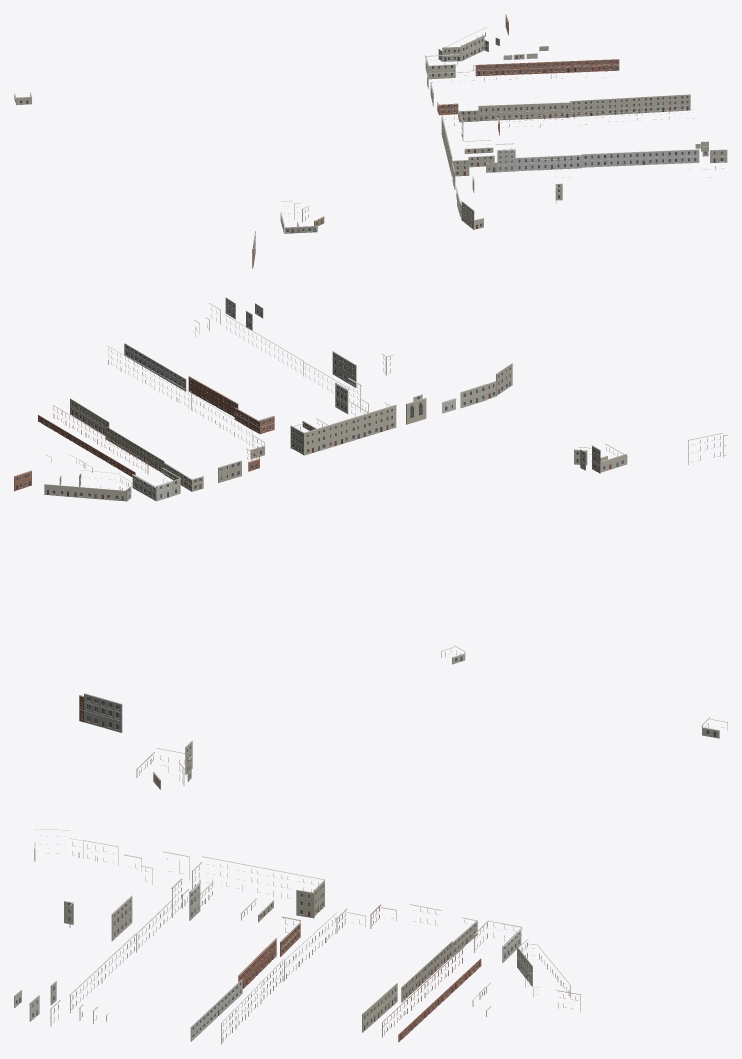
The picture shows the model from 3 angles, top to bottom: view 1: azimuth 30°, elevation 25°; view 2: azimuth 150°, elevation 25°; view 3: azimuth 270°, elevation 25°; orthographic projection. The views are drawn at different scales.
Visible parts, largest first — view 1: f:way/172397103, f:way/145168161, f:way/145162487, f:way/171463872, f:way/171465021, f:way/145168174; view 2: f:way/171463872, f:way/171465021, f:way/145162487, f:way/145162483, f:way/145162481, f:way/145162482, f:way/172397103, f:way/145168171, f:way/145162501, f:way/171463869, f:way/299736826; view 3: f:way/171463872, f:way/161131041, f:way/145162487, f:way/172397103, f:way/145162481, f:way/145168171, f:way/145162483, f:way/145168161, f:way/145162482, f:way/145162501, f:way/171465021.
Part boxes in pixels (x1,y1,x2,y2): f:way/172397103: (478,94,690,121); f:way/145168161: (515,149,699,171); f:way/145162487: (473,59,619,76); f:way/171463872: (441,114,494,176); f:way/171465021: (438,27,499,61); f:way/145168174: (495,143,515,172); f:way/171463872: (290,402,396,455); f:way/171465021: (44,470,131,501); f:way/145162487: (38,405,148,477); f:way/145162483: (124,343,186,391); f:way/145162481: (105,426,164,473); f:way/145162482: (188,376,238,416); f:way/172397103: (107,345,252,446); f:way/145168171: (332,351,393,387); f:way/145162501: (70,398,109,435); f:way/171463869: (132,474,172,501); f:way/299736826: (591,443,627,473); f:way/171463872: (191,856,325,922); f:way/161131041: (79,693,122,732); f:way/145162487: (382,947,481,1042); f:way/172397103: (221,912,336,1044); f:way/145162481: (401,941,452,1002); f:way/145168171: (64,895,132,940); f:way/145162483: (190,979,242,1041); f:way/145168161: (69,900,172,1013); f:way/145162482: (238,938,276,989); f:way/145162501: (362,983,397,1032); f:way/171465021: (517,938,570,997).
Size of the model in its own units: 262 by 14.11 by 242.
